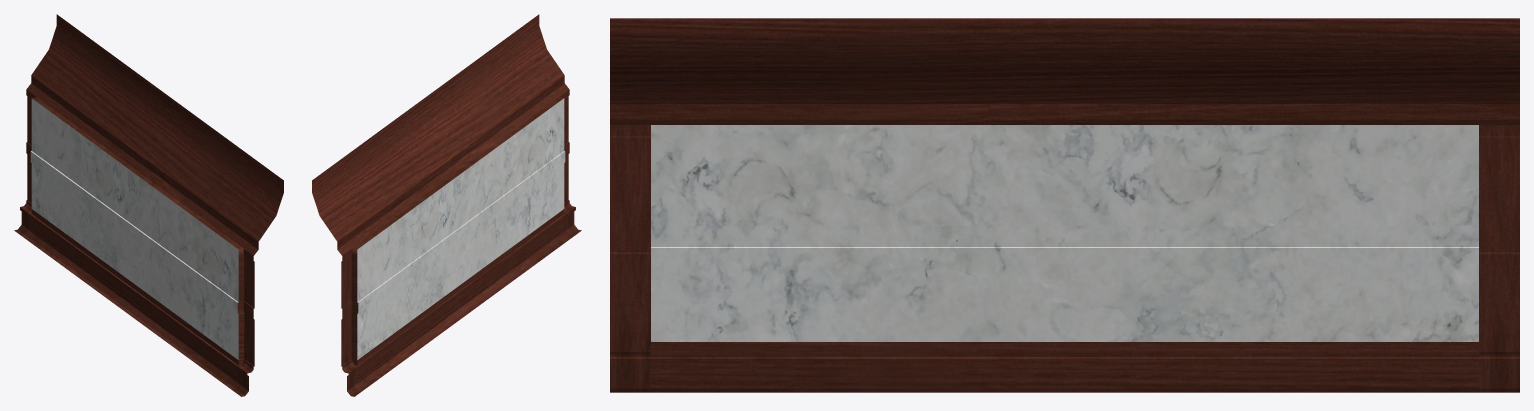
Rendered from WallFoyer_2x1TopConnector.fbx.
The picture shows the model from 3 angles, left to right: view 1: azimuth 30°, elevation 25°; view 2: azimuth 150°, elevation 25°; view 3: azimuth 270°, elevation 25°; orthographic projection. The views are drawn at different scales.
Visible parts, largest first — view 1: WallFoyer_2x1CeilingConnector; view 2: WallFoyer_2x1CeilingConnector; view 3: WallFoyer_2x1CeilingConnector.
Boxes of the visible parts, x1,y1,x2,y2 form: WallFoyer_2x1CeilingConnector: (14, 14, 283, 396); WallFoyer_2x1CeilingConnector: (312, 14, 581, 396); WallFoyer_2x1CeilingConnector: (610, 18, 1519, 392).
Size of the model in its own units: 21.59 by 100 by 200.
